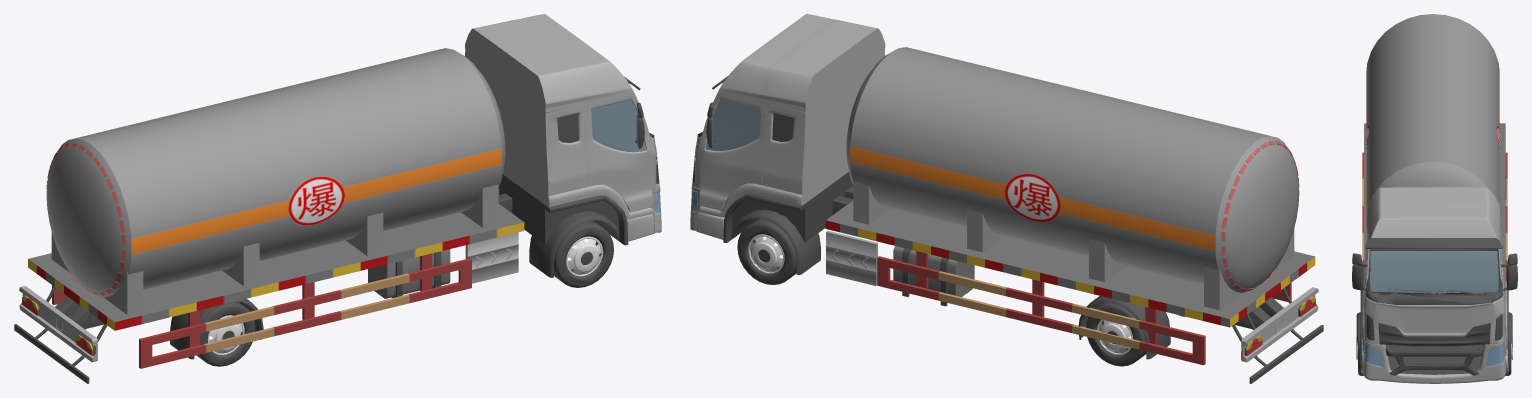
File: DANGEROUS.glb
3 views of the same model, side by side, from view 1: azimuth 30°, elevation 25°; view 2: azimuth 150°, elevation 25°; view 3: azimuth 270°, elevation 25° (orthographic). The views are drawn at different scales.
Visible parts, largest first — view 1: 04 - Default123112.002, body; view 2: 04 - Default123112.002, body; view 3: 04 - Default123112.002, body.
Boxes of the visible parts, x1,y1,x2,y2 form: 04 - Default123112.002: (14,48,660,383); body: (19,14,661,362); 04 - Default123112.002: (691,47,1323,383); body: (690,14,1318,362); 04 - Default123112.002: (1352,14,1517,375); body: (1360,187,1508,383).
Size of the model in its own units: 9.33 by 3.44 by 2.88.
Materials: 16 (2 with a texture image).
